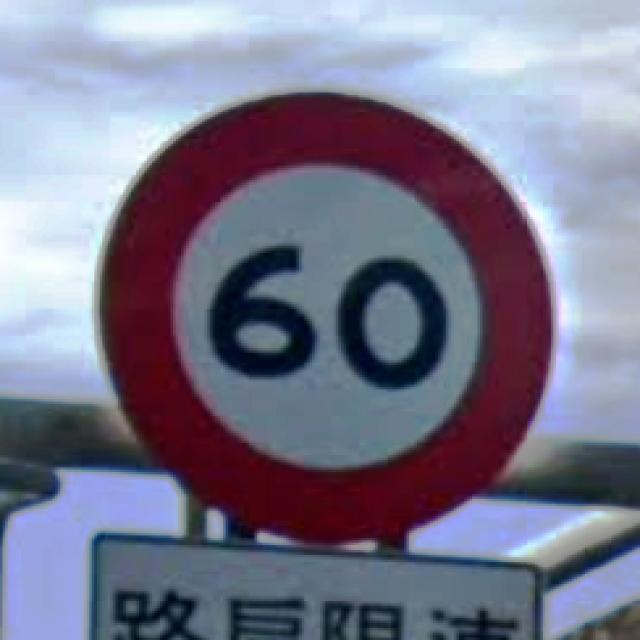max60: (91, 85, 558, 543)
